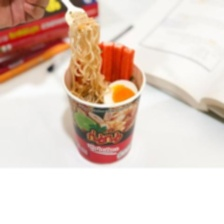paper_cup: (59, 51, 150, 168)
